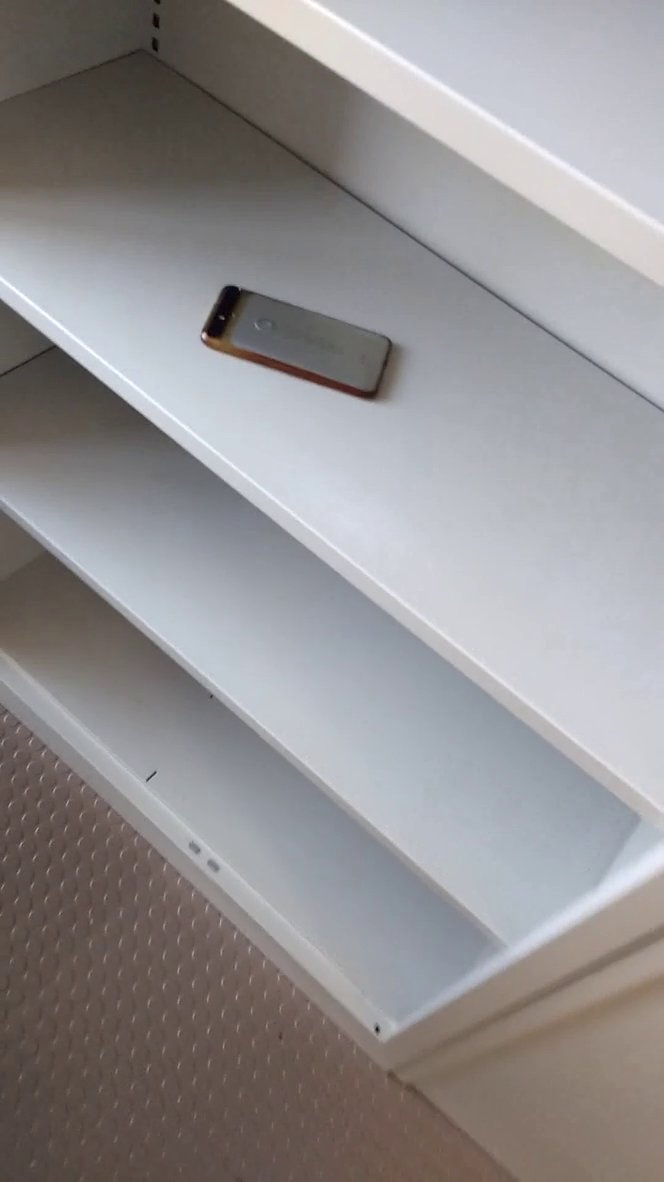phone: (187, 275, 405, 408)
